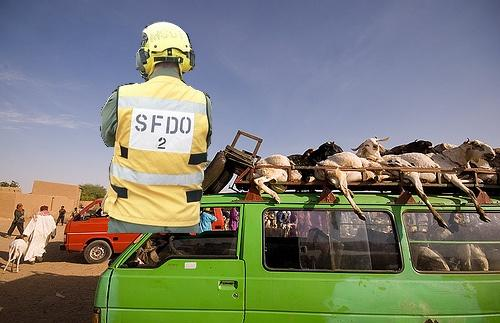tampered: (101, 22, 212, 233)
